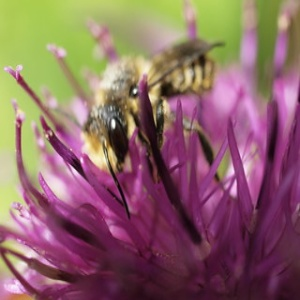bee: (84, 32, 226, 225)
